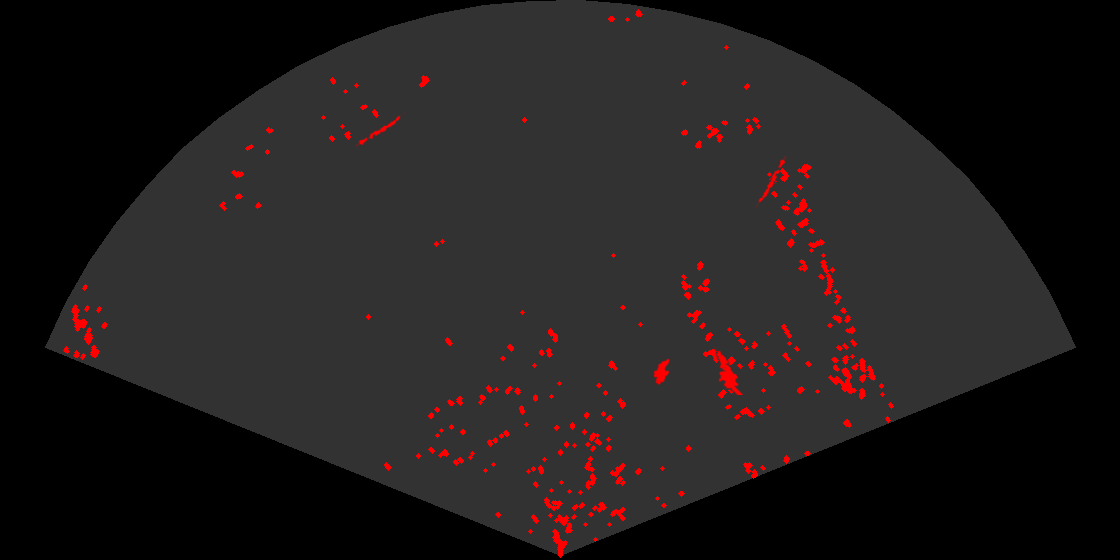AUV: (652, 357, 671, 386)
chain: (356, 113, 407, 148), (756, 156, 788, 208)
frogman: (712, 347, 745, 395)
